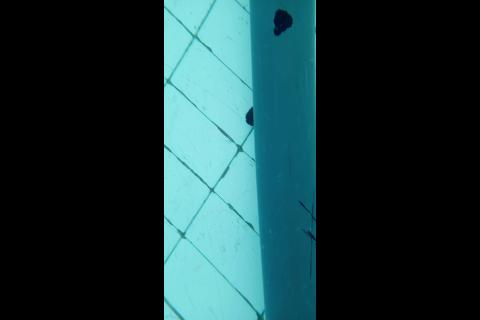kebocoran: (272, 9, 293, 37)
keretakan: (299, 200, 315, 281)
